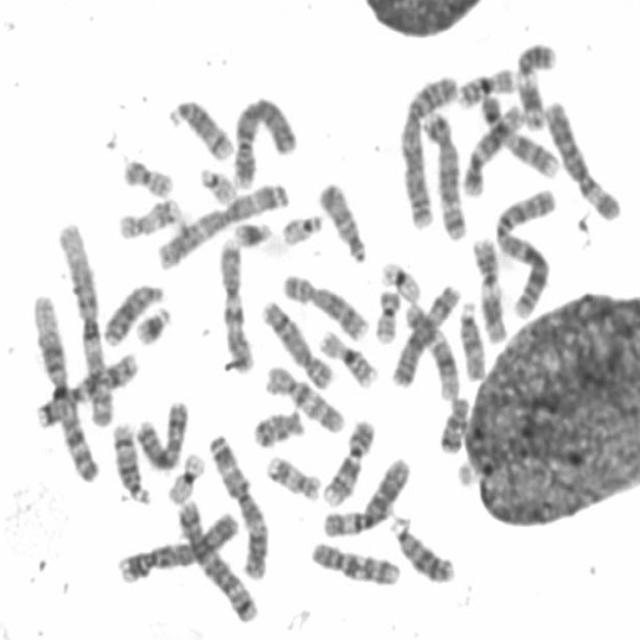A1: (29, 290, 101, 487), (55, 218, 114, 429)
A2: (396, 69, 462, 237), (492, 184, 557, 319)
A3: (154, 180, 288, 271), (205, 430, 269, 580)
B4: (112, 507, 240, 585), (229, 93, 299, 190)
B5: (174, 496, 258, 625), (420, 106, 468, 244)
C10: (262, 360, 346, 436), (307, 538, 403, 588)
C11: (469, 233, 509, 345), (513, 39, 558, 132)
C12: (458, 101, 524, 198), (401, 297, 460, 401)
C6: (540, 99, 622, 222), (319, 453, 411, 539)
C7: (31, 347, 141, 431), (216, 236, 256, 374)
C8: (259, 298, 335, 390), (279, 270, 369, 343)
C9: (478, 91, 562, 180), (319, 416, 376, 508)
D13: (386, 514, 456, 585), (99, 278, 165, 348)
D14: (165, 96, 234, 162), (110, 419, 152, 507)
D15: (315, 178, 369, 266), (456, 297, 487, 383)
E16: (316, 327, 379, 389), (454, 64, 517, 110)
E17: (114, 194, 184, 243), (262, 451, 323, 503)
E18: (250, 407, 306, 450), (436, 392, 470, 456)
F19: (162, 449, 206, 506), (378, 257, 423, 303)
F20: (119, 154, 174, 200), (371, 285, 402, 344)
G21: (133, 304, 173, 348), (230, 216, 274, 250)
G22: (195, 163, 238, 206), (279, 210, 323, 248)
X: (388, 281, 462, 389), (132, 395, 190, 471)
